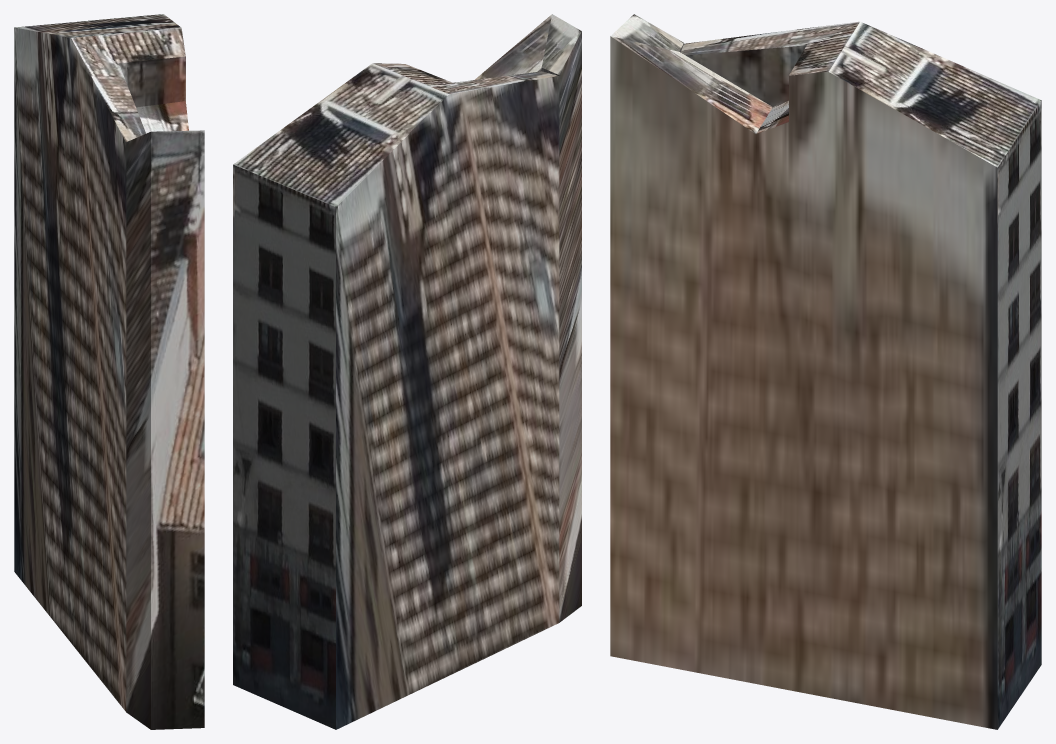
3 views of the same model, side by side, from view 1: azimuth 30°, elevation 25°; view 2: azimuth 150°, elevation 25°; view 3: azimuth 270°, elevation 25° (orthographic). The views are drawn at different scales.
Visible parts, largest first — view 1: Z_UP; view 2: Z_UP; view 3: Z_UP.
Boxes of the visible parts, box(x1,y1,x2,y2) form: Z_UP: box(14, 14, 204, 729); Z_UP: box(233, 14, 581, 729); Z_UP: box(610, 14, 1041, 729).
Bounding box in the file's own units: 7.75 × 23.78 × 14.79.
2 materials, 1 textured.
